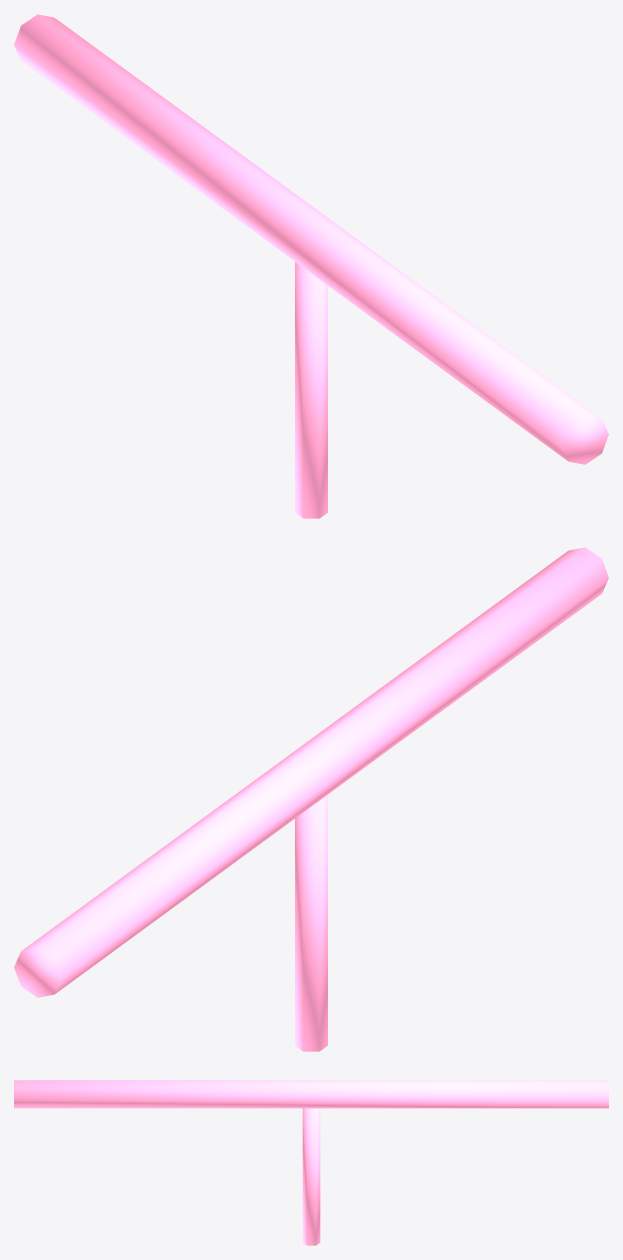
File: toy-slide-rail.glb
The picture shows the model from 3 angles, top to bottom: view 1: azimuth 30°, elevation 25°; view 2: azimuth 150°, elevation 25°; view 3: azimuth 270°, elevation 25°; orthographic projection. The views are drawn at different scales.
Parts seen in each view (by area): view 1: toy-slide-rail; view 2: toy-slide-rail; view 3: toy-slide-rail.
Boxes of the visible parts, x1=… form: toy-slide-rail: x1=14, y1=14, x2=608, y2=518; toy-slide-rail: x1=14, y1=547, x2=608, y2=1051; toy-slide-rail: x1=14, y1=1080, x2=608, y2=1245.
Size of the model in its own units: 0.2 by 1.2 by 4.
